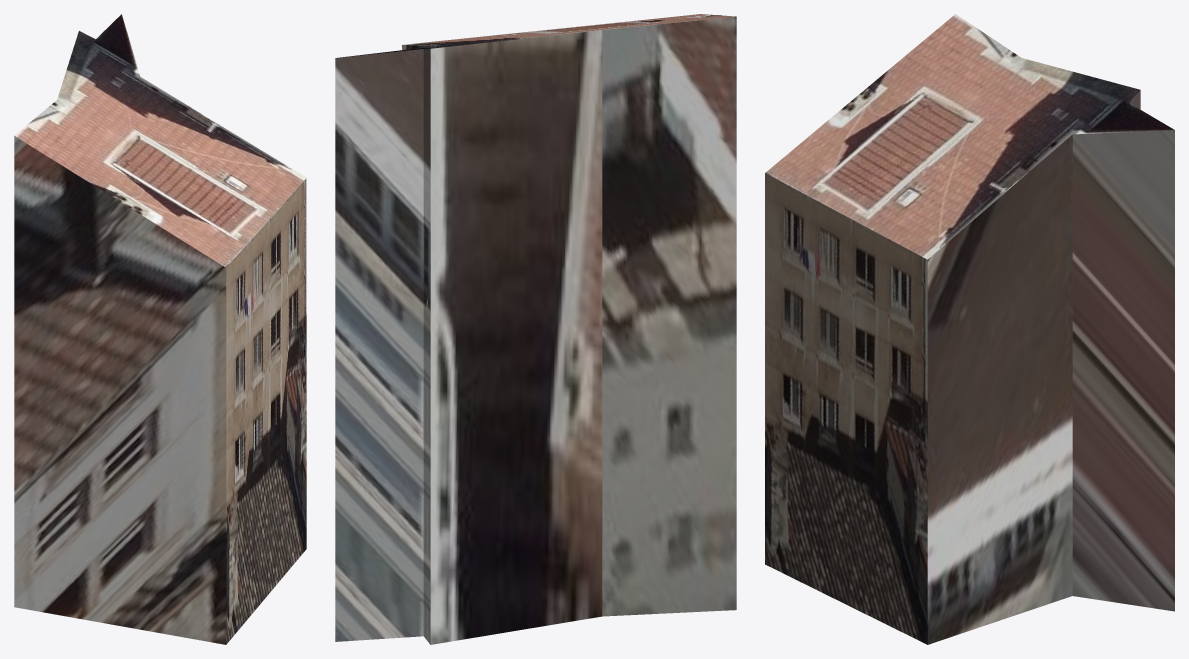
3 renders of one model, left to right at view 1: azimuth 30°, elevation 25°; view 2: azimuth 150°, elevation 25°; view 3: azimuth 270°, elevation 25°, orthographic. The views are drawn at different scales.
Parts seen in each view (by area): view 1: Z_UP; view 2: Z_UP; view 3: Z_UP.
Part boxes in pixels (bbox=[...]): Z_UP: bbox=[14, 14, 306, 644]; Z_UP: bbox=[335, 14, 736, 644]; Z_UP: bbox=[765, 14, 1174, 644].
Size of the model in its own units: 10.71 by 17.35 by 13.11.
2 materials, 1 textured.
